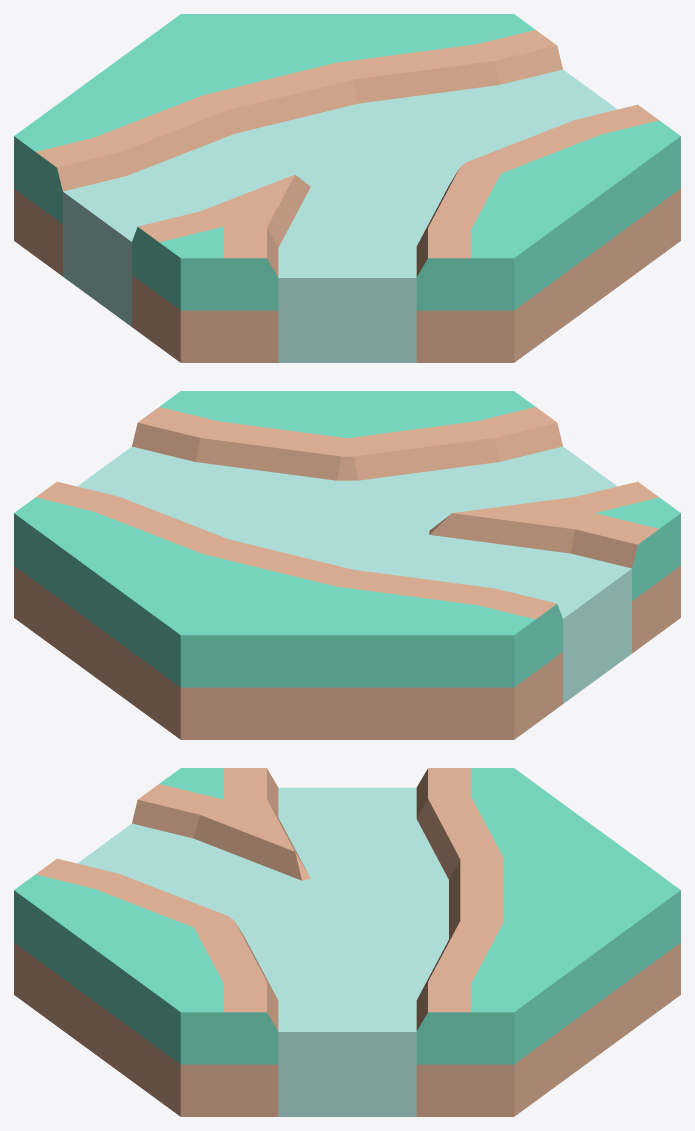
Rendered from river_intersectionB.glb.
The picture shows the model from 3 angles, top to bottom: view 1: azimuth 30°, elevation 25°; view 2: azimuth 150°, elevation 25°; view 3: azimuth 270°, elevation 25°; orthographic projection.
Visible parts, largest first — view 1: river_intersectionB; view 2: river_intersectionB; view 3: river_intersectionB.
Boxes of the visible parts, x1=… form: river_intersectionB: x1=14, y1=14, x2=680, y2=362; river_intersectionB: x1=14, y1=391, x2=680, y2=739; river_intersectionB: x1=14, y1=768, x2=680, y2=1116.
Size of the model in its own units: 1 by 0.2 by 1.15.
